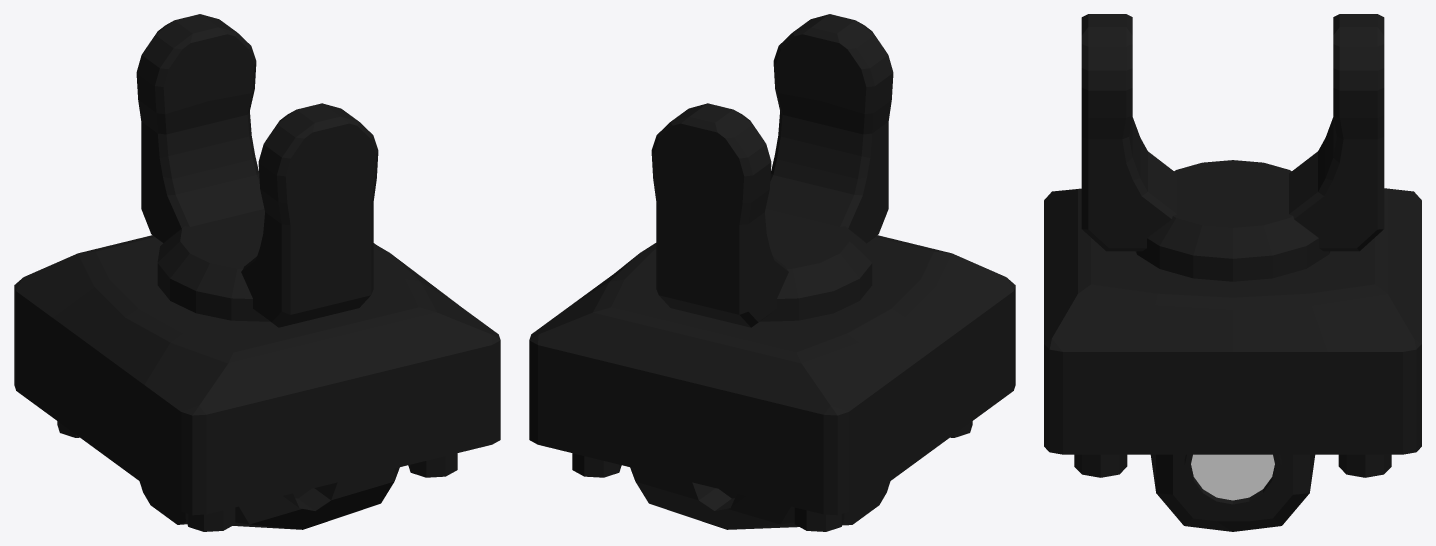
File: lyre.obj
3 renders of one model, left to right at view 1: azimuth 30°, elevation 25°; view 2: azimuth 150°, elevation 25°; view 3: azimuth 270°, elevation 25°, orthographic. The views are drawn at different scales.
Visible parts, largest first — view 1: base, yaw, pitch; view 2: base, yaw, pitch; view 3: base, yaw, pitch.
Part boxes in pixels (x1,y1,x2,y2): base: [14, 235, 500, 531]; yaw: [136, 14, 378, 327]; pitch: [139, 467, 399, 529]; base: [529, 235, 1015, 531]; yaw: [651, 14, 893, 327]; pitch: [630, 467, 890, 529]; base: [1044, 188, 1421, 477]; yaw: [1081, 14, 1384, 281]; pitch: [1150, 454, 1315, 531].
Size of the model in its own units: 1.06 by 1.45 by 1.06.
1 material, 1 textured.
